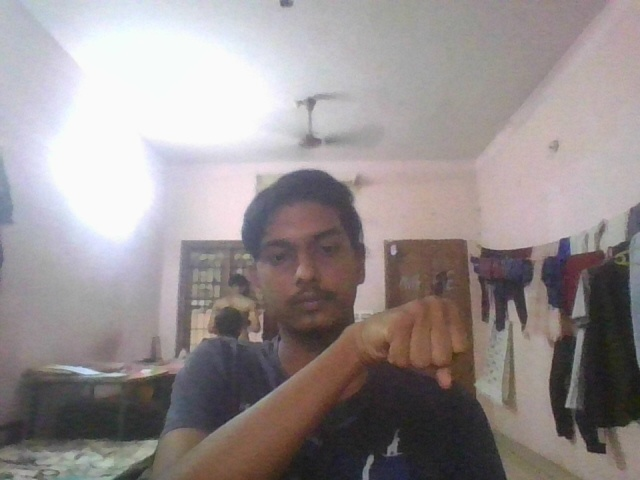yes: (345, 293, 486, 397)
